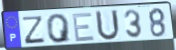3: (123, 9, 143, 40)
8: (148, 7, 168, 39)
E: (71, 11, 96, 43)
Q: (45, 13, 72, 45)
U: (95, 9, 122, 42)
Z: (22, 15, 46, 46)
